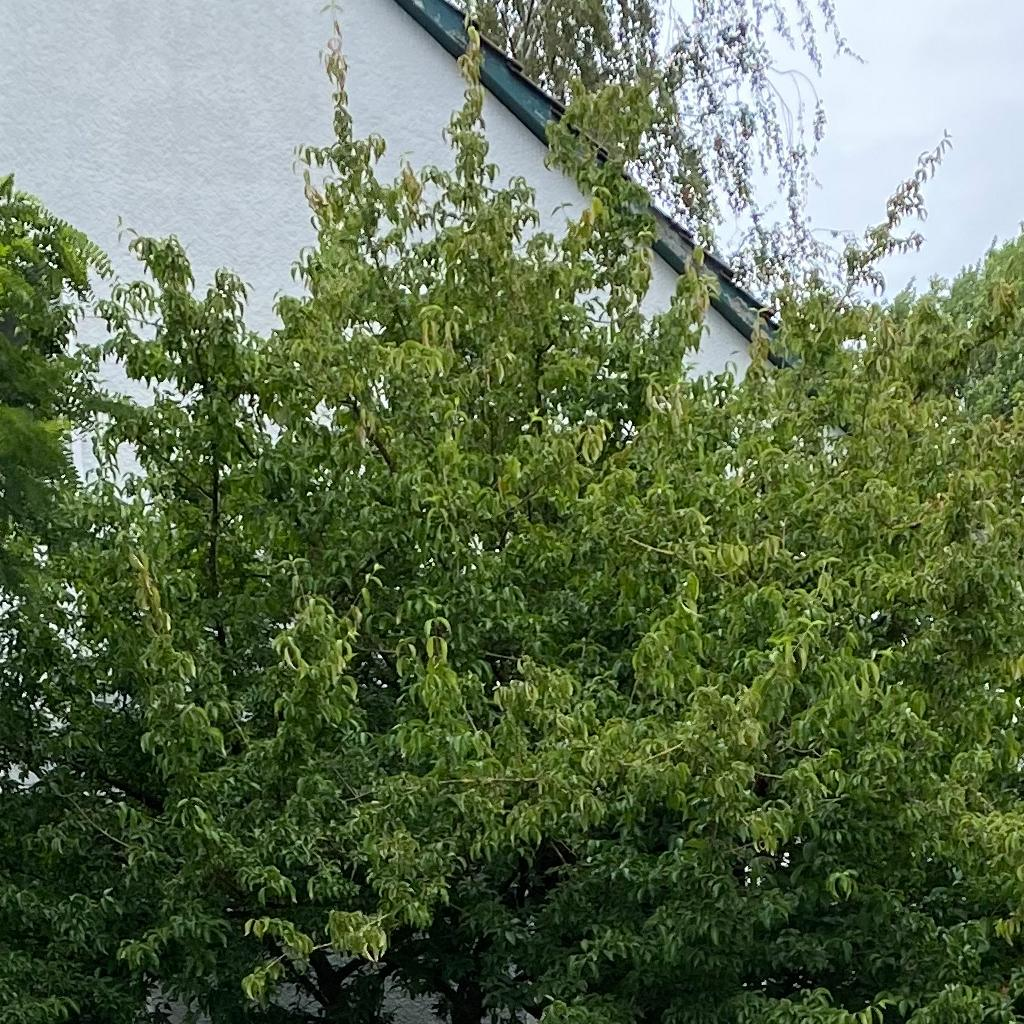tree: (1, 1, 1023, 1023), (446, 1, 954, 316)
